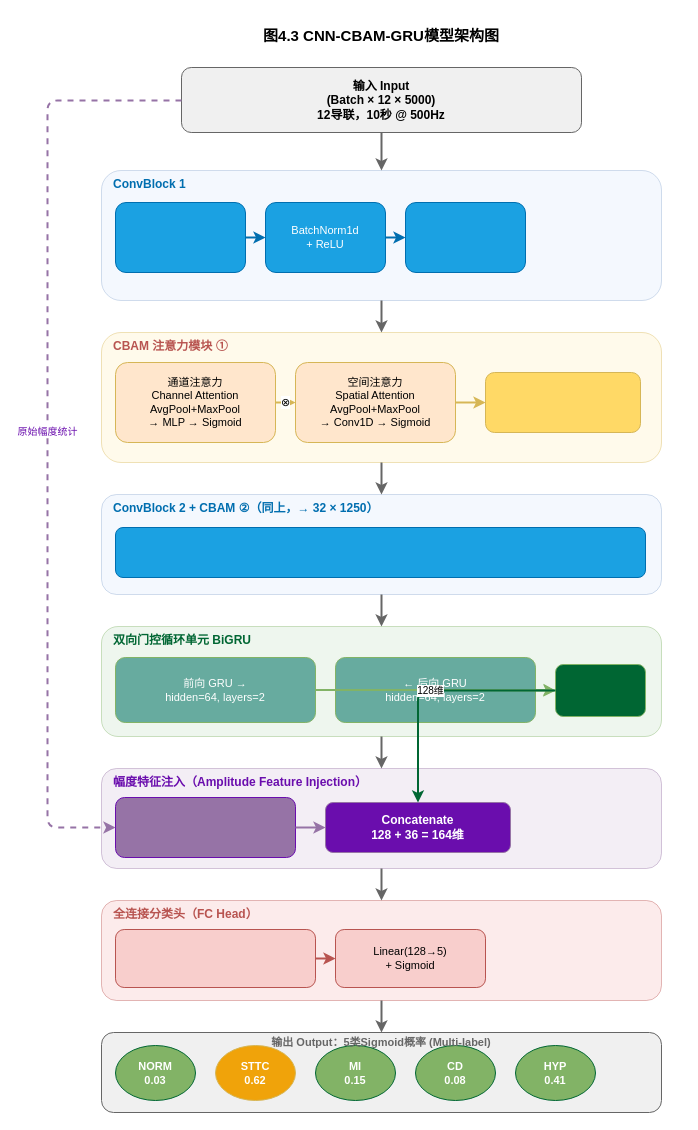
The diagram is 698 pixels wide and 1130 high, and some of its shapes have lost their labels. The shapes that lost their labels are listed below. From the top down, each one's centre as x and y in pixels, then its label:
[180,237]: Conv1D (12→32, kernel=7)
[465,237]: MaxPool1d (stride=2) → (32 × 2500)
[562,402]: 特征加权输出 (32 × 2500)
[380,552]: Conv1D(32→32, k=7) → BN → ReLU → MaxPool(÷2) → CBAM → (32 × 1250)
[600,690]: Concat → 128维上下文向量 (h_fwd ⊕ h_bwd)
[205,827]: 12导联 × 3特征 峰峰值 / RMS / 标准差 = 36维手工特征
[215,958]: Linear(164→128) + ReLU + Dropout(0.5)
